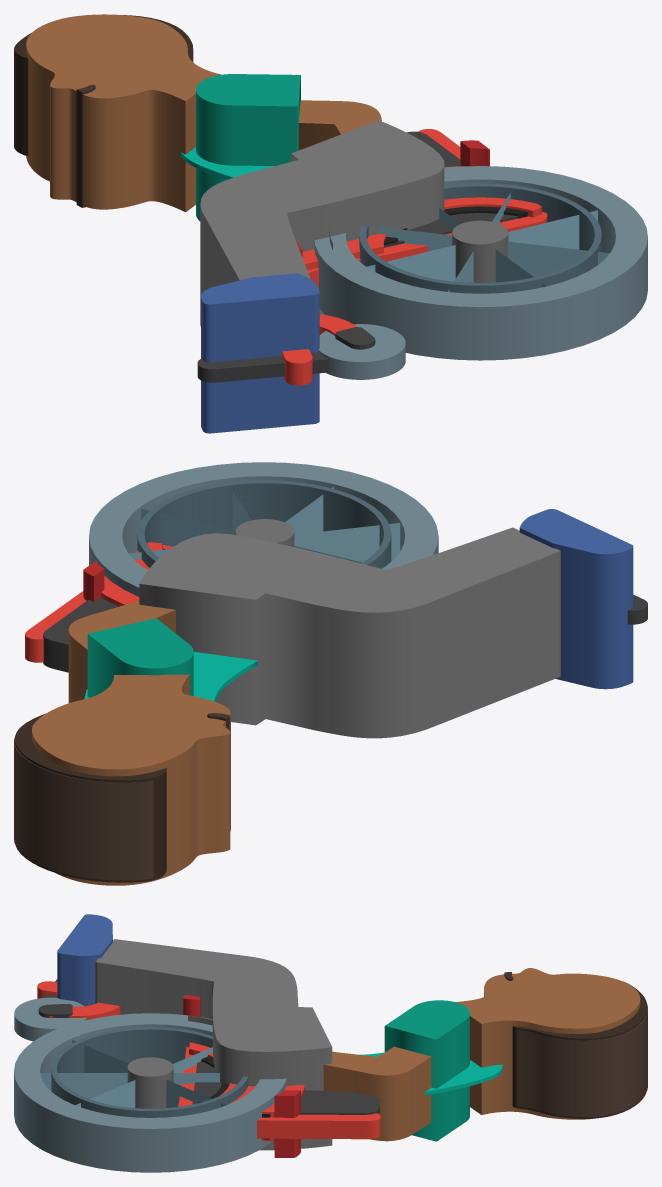
File: emoji_u1f468_1f3fe_200d_1f9bd.glb
3 renders of one model, top to bottom at view 1: azimuth 30°, elevation 25°; view 2: azimuth 150°, elevation 25°; view 3: azimuth 270°, elevation 25°, orthographic. The views are drawn at different scales.
Visible parts, largest first — view 1: emoji_u1f468_1f3fe_200d_1f9bd; view 2: emoji_u1f468_1f3fe_200d_1f9bd; view 3: emoji_u1f468_1f3fe_200d_1f9bd.
Boxes of the visible parts, x1,y1,x2,y2 form: emoji_u1f468_1f3fe_200d_1f9bd: (14, 14, 647, 433); emoji_u1f468_1f3fe_200d_1f9bd: (14, 462, 647, 885); emoji_u1f468_1f3fe_200d_1f9bd: (14, 914, 647, 1172).
Bounding box in the file's own units: 0.022 × 0.0058 × 0.0315.
